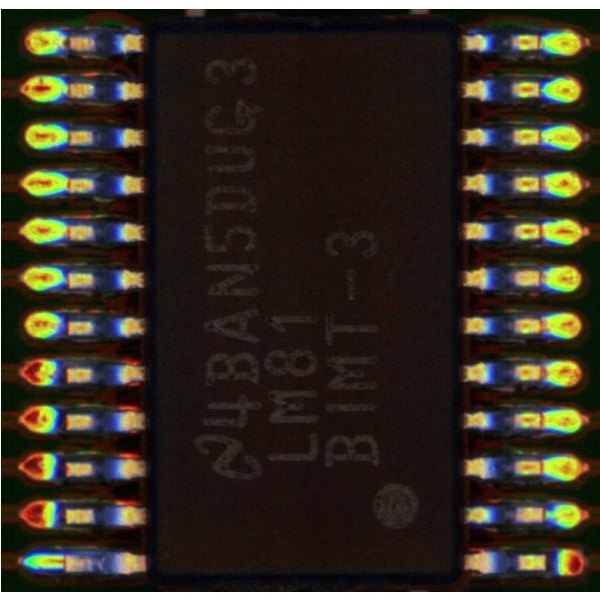Bad_podu: (53, 554, 75, 568)
